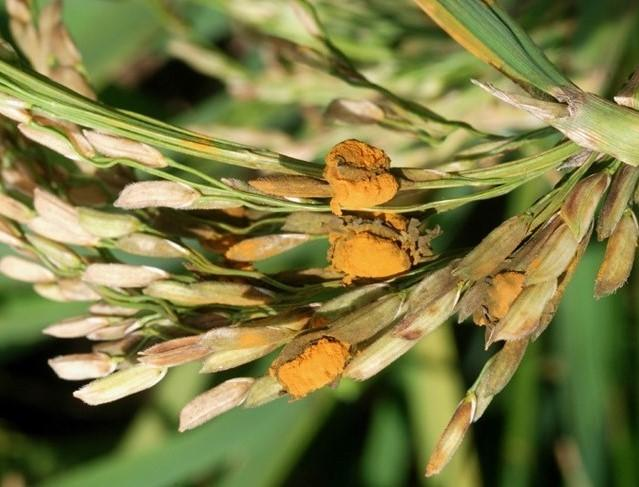False Smut: (324, 211, 431, 293), (268, 319, 361, 401), (320, 136, 408, 216), (459, 264, 553, 336), (194, 199, 275, 275)
